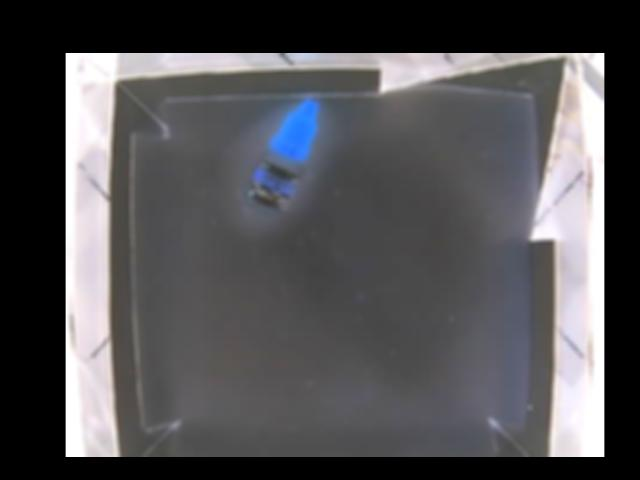Bottle: (248, 98, 319, 217)
